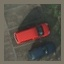car: (12, 23, 50, 44), (30, 45, 55, 59)
